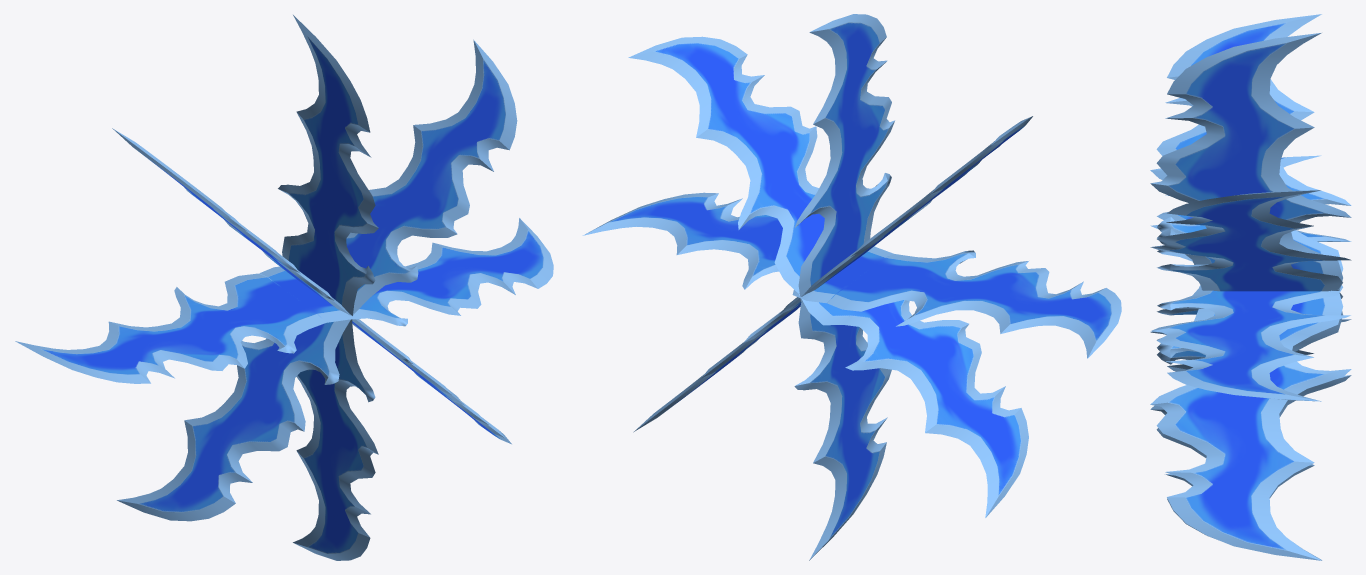
The model's file is Vertical_Bullet.fbx.
3 views of the same model, side by side, from view 1: azimuth 30°, elevation 25°; view 2: azimuth 150°, elevation 25°; view 3: azimuth 270°, elevation 25° (orthographic).
Parts seen in each view (by area): view 1: SM_DS_Dragon_Weapon.003; view 2: SM_DS_Dragon_Weapon.003; view 3: SM_DS_Dragon_Weapon.003.
Boxes of the visible parts, x1,y1,x2,y2 form: SM_DS_Dragon_Weapon.003: (15,15,553,560); SM_DS_Dragon_Weapon.003: (582,14,1121,560); SM_DS_Dragon_Weapon.003: (1150,14,1351,560).
Bounding box in the file's own units: 1.96 × 1.96 × 0.6804.
